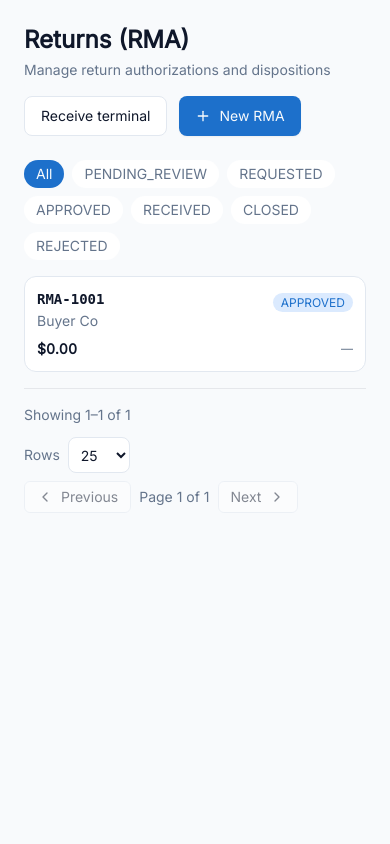
Test: ReturnsPage RMA exceptions › toasts the backend detail when Escalate to RTV fails
This screenshot has width=390, height=844.
Click the button "RMA-1001 Buyer Co APPROVED $0.00 —".
click(71, 299)  # box [24,276,366,372]
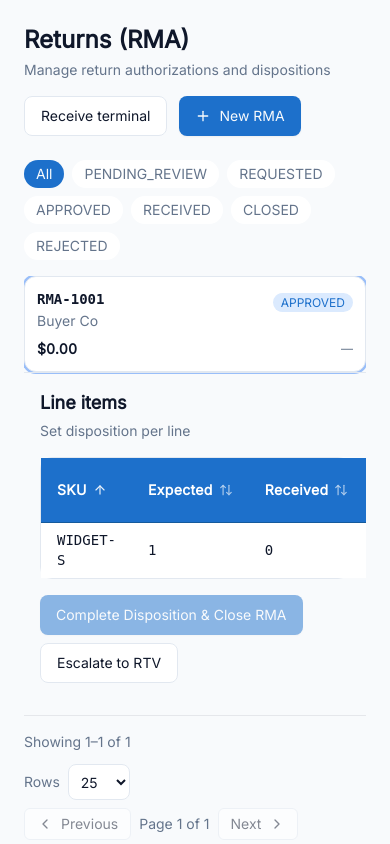
Click the button with test id "rma-escalate-rtv".
click(109, 663)  # box [40,643,178,683]
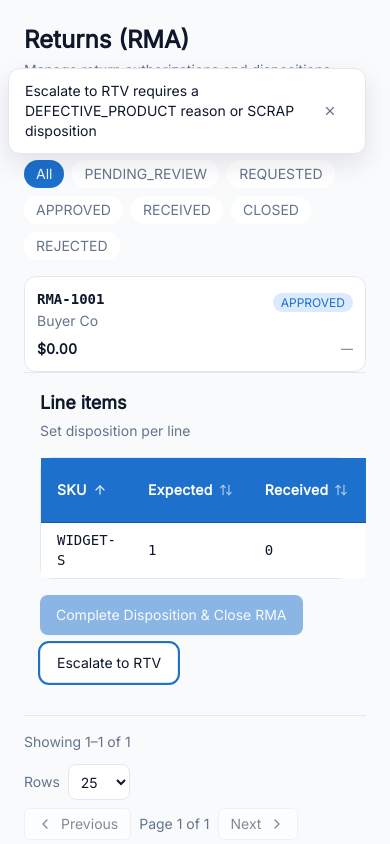
Result: the message with test id "app-toast" reads "Escalate to RTV requires a DEFECTIVE_PRODUCT reason or SCRAP disposition" at [25,82,294,139]
